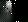person: (7, 3, 13, 16)
